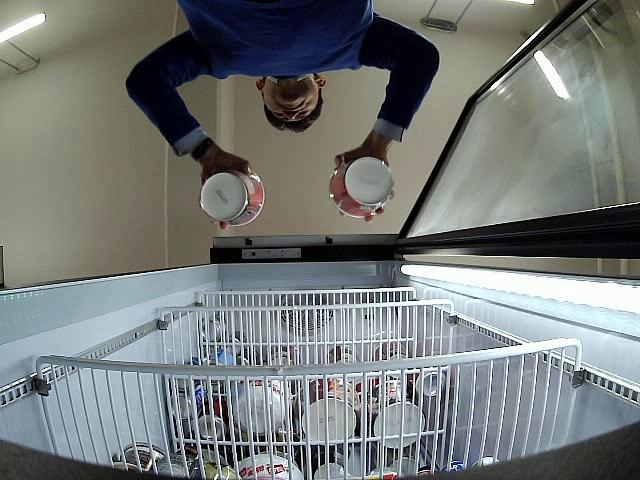00_hand: (201, 154, 252, 231), (334, 151, 388, 223)
01_shinRamen_L: (199, 166, 265, 225), (330, 160, 394, 218)
